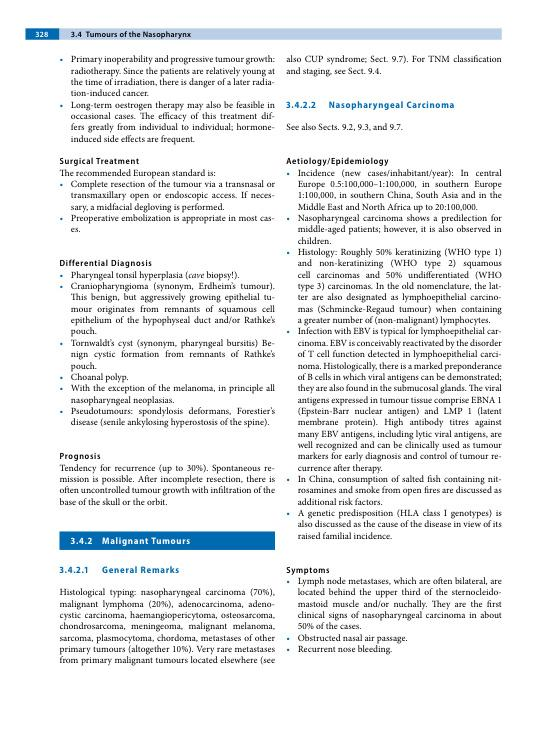header: (85, 30, 192, 39)
list: (285, 167, 503, 542), (59, 270, 276, 429), (58, 54, 276, 146), (285, 576, 503, 656), (58, 179, 275, 234)
section-heading: (101, 536, 191, 547)
sub-section-heading: (327, 99, 455, 112), (284, 156, 389, 167), (58, 156, 141, 167), (101, 565, 180, 574), (59, 451, 102, 462), (285, 566, 330, 576)
text: (58, 586, 277, 667), (58, 463, 277, 507), (284, 53, 502, 77), (58, 168, 216, 179), (284, 121, 405, 132)
